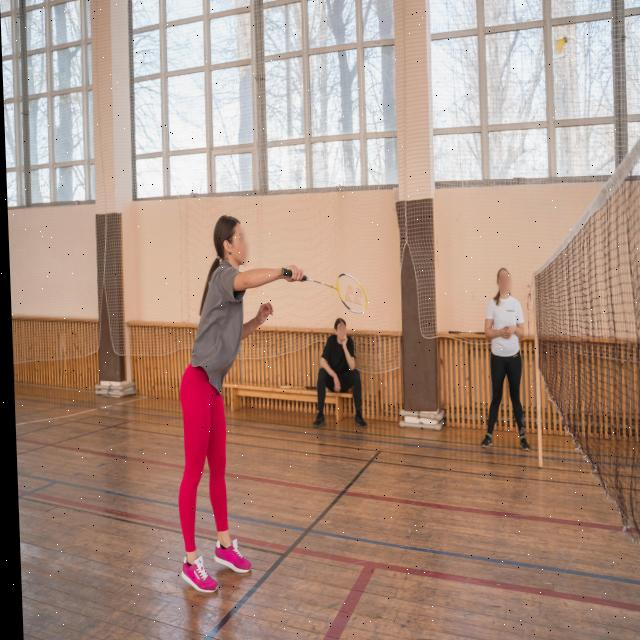Person: (157, 207, 281, 608), (464, 259, 531, 479), (297, 316, 381, 433)
